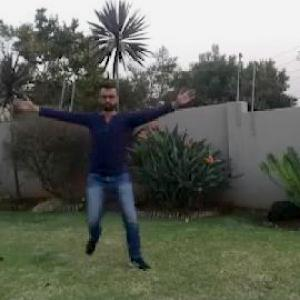takeoff: (9, 90, 195, 266)
